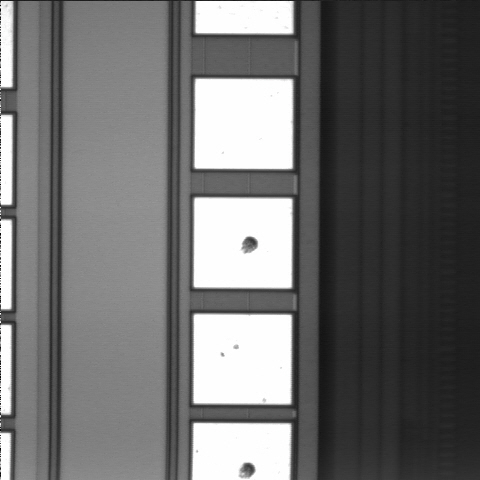pad: (195, 79, 293, 169), (194, 198, 292, 288), (194, 314, 292, 404)
